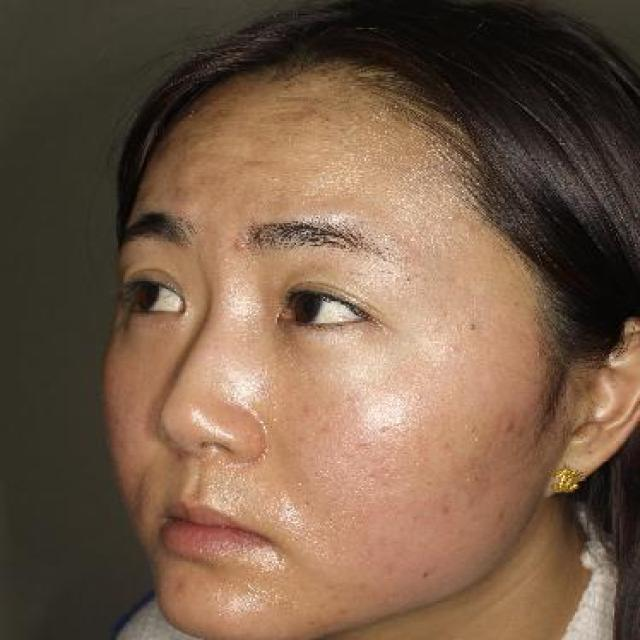Acne: (172, 570, 194, 598)
Blackheads: (455, 316, 488, 338), (416, 566, 436, 586)
